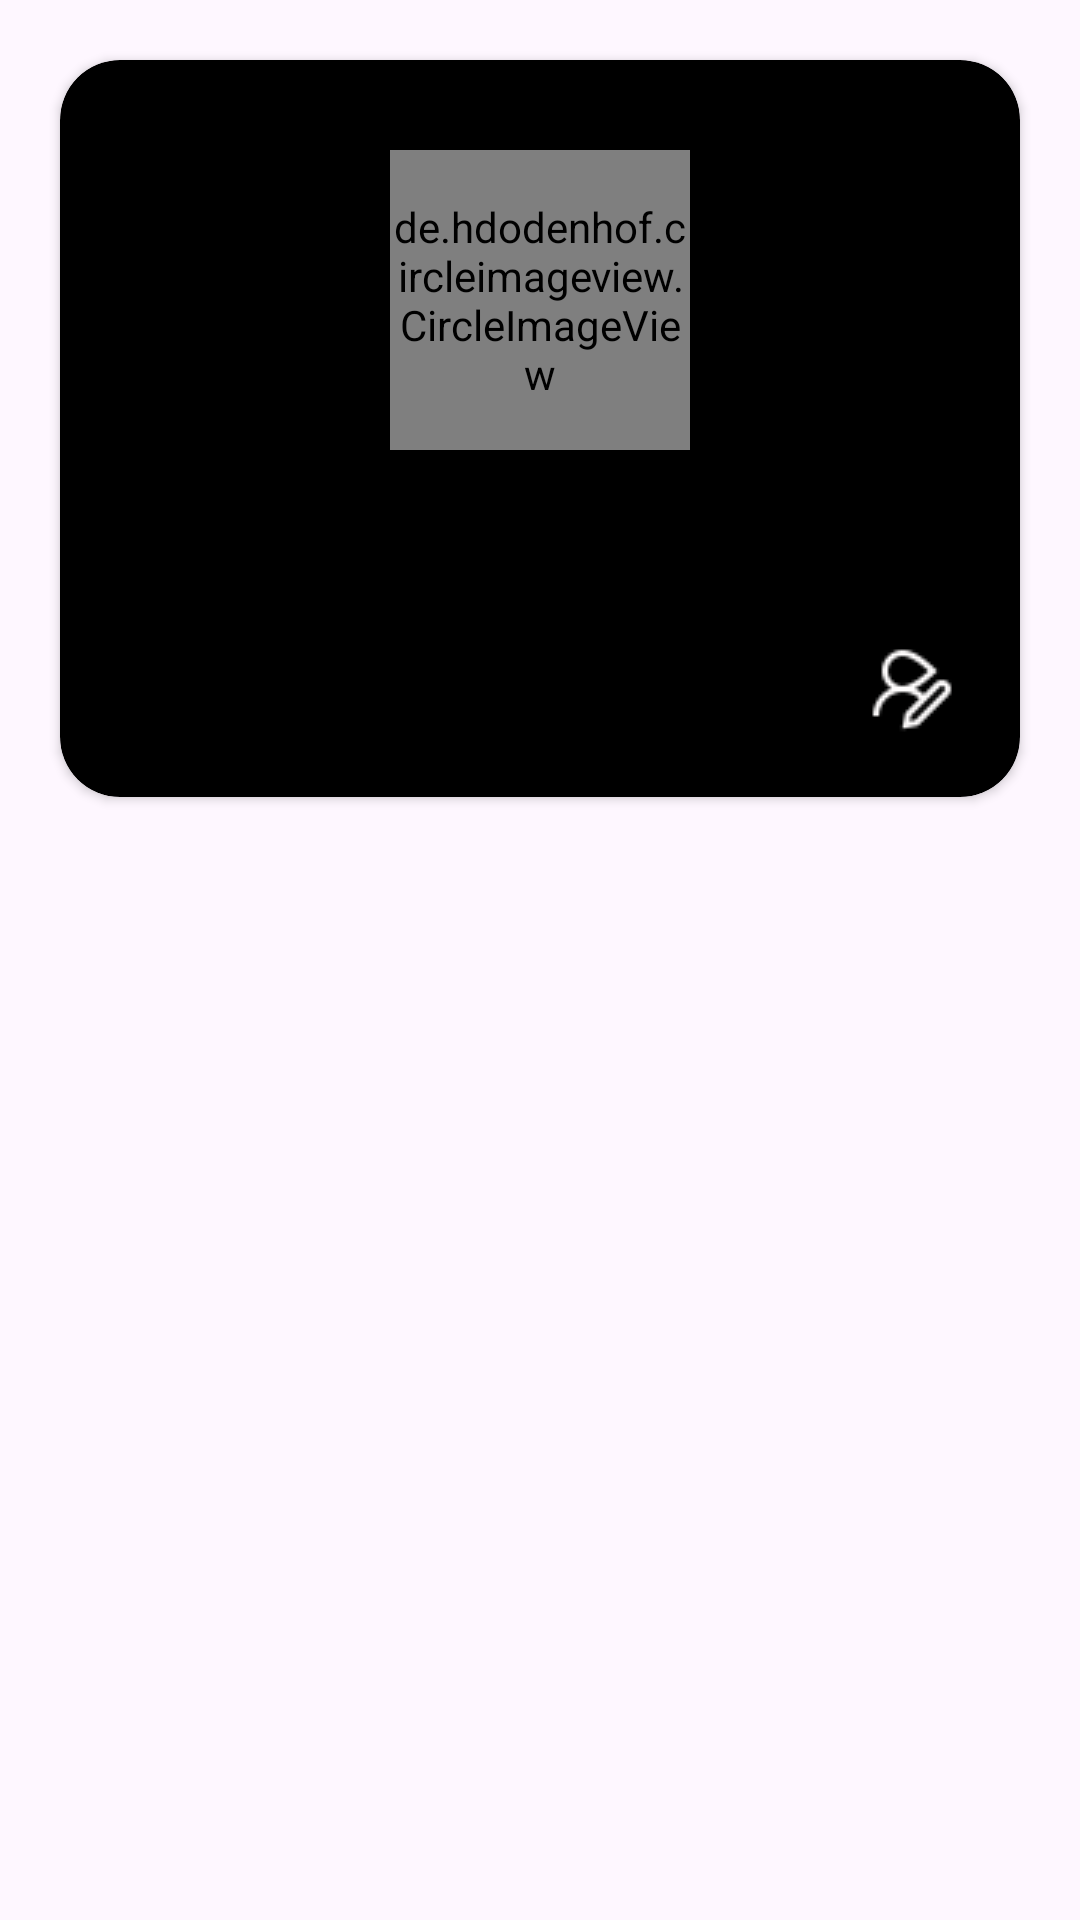

Icon click points for this 1080px×1920px phone screenshot, format (x=x, y=y):
edit profile: (x=912, y=689)
